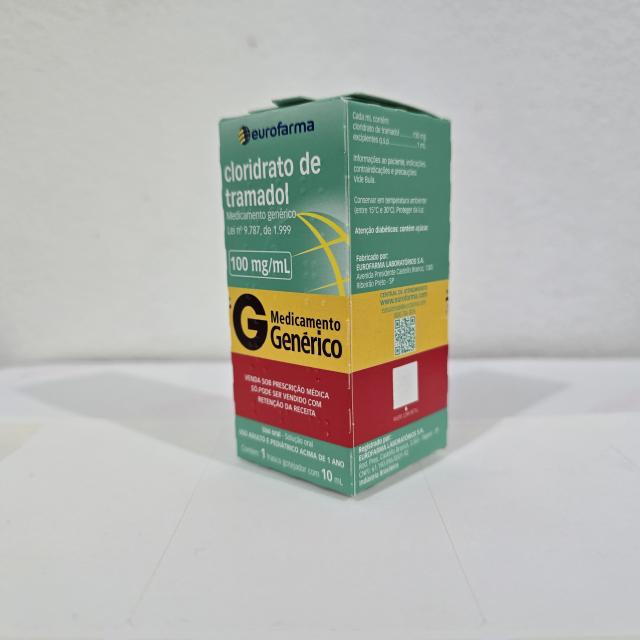tramadol: (211, 88, 451, 504)
